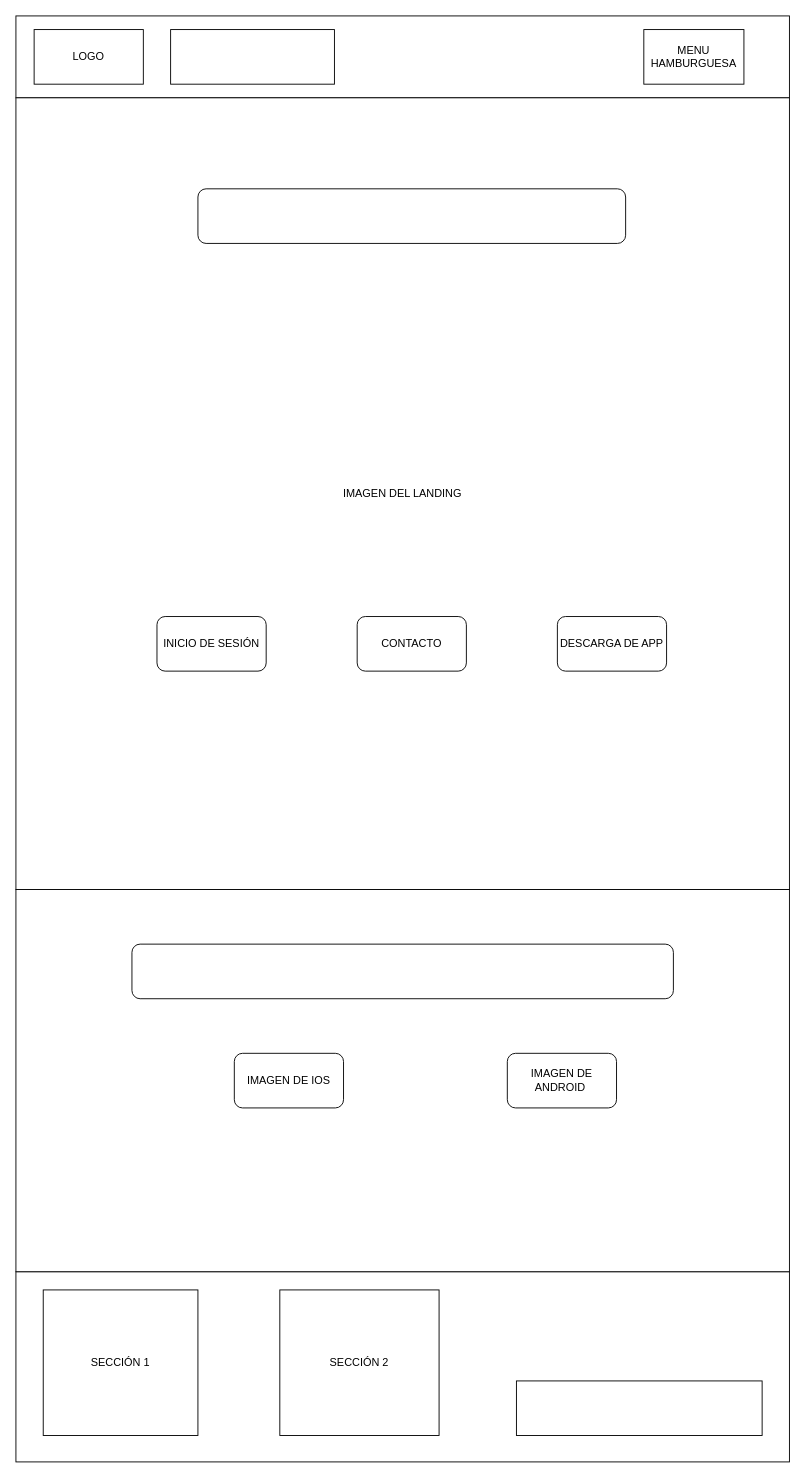
The diagram is 805 pixels wide and 1478 high, and some of its shapes have lost their labels. Here are the shapes that lost their labels. From the top down, the centre of each, then its label:
At [252,56]: "NOMBRE DE EMPRESA".
At [411,215]: "TÍTULO LANDING".
At [402,971]: "TÍTULO DE DESCARGA DE APP".
At [639,1408]: "INFO EXTRA".
